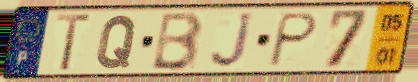7: (326, 8, 373, 71)
B: (148, 9, 206, 73)
J: (208, 10, 256, 71)
P: (265, 11, 321, 69)
Q: (94, 13, 140, 71)
T: (53, 12, 95, 74)
